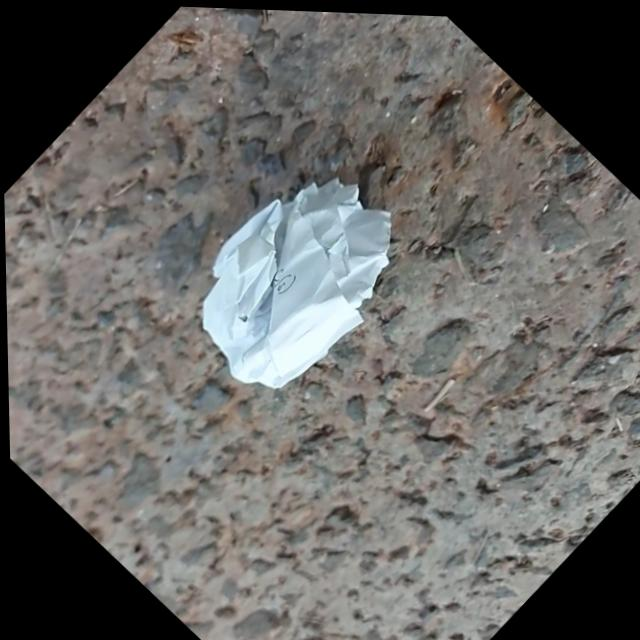paper: (203, 178, 390, 387)
